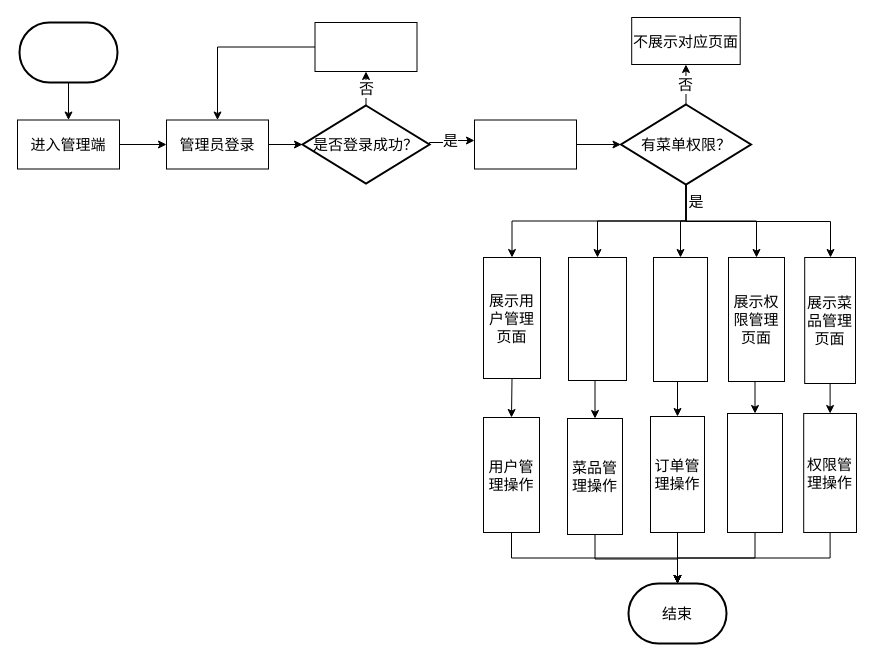
The diagram is 874 pixels wide and 662 high, and some of its shapes have lost their labels. The shapes that lost their labels are listed below. From the top down, each one's box as (x1, y1, x2, y2) in pixels, then its label:
(18, 21, 118, 83): 开始
(314, 22, 417, 72): 响应错误信息
(474, 119, 576, 169): 进入后台首页
(568, 256, 626, 380): 展示订单管理页面
(652, 256, 708, 382): 展示角色管理页面
(726, 412, 782, 532): 角色管理操作
